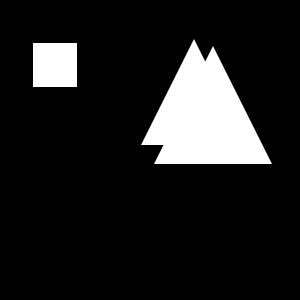circle: (33, 43, 77, 87)
triangle: (154, 46, 272, 164), (141, 39, 247, 145)
